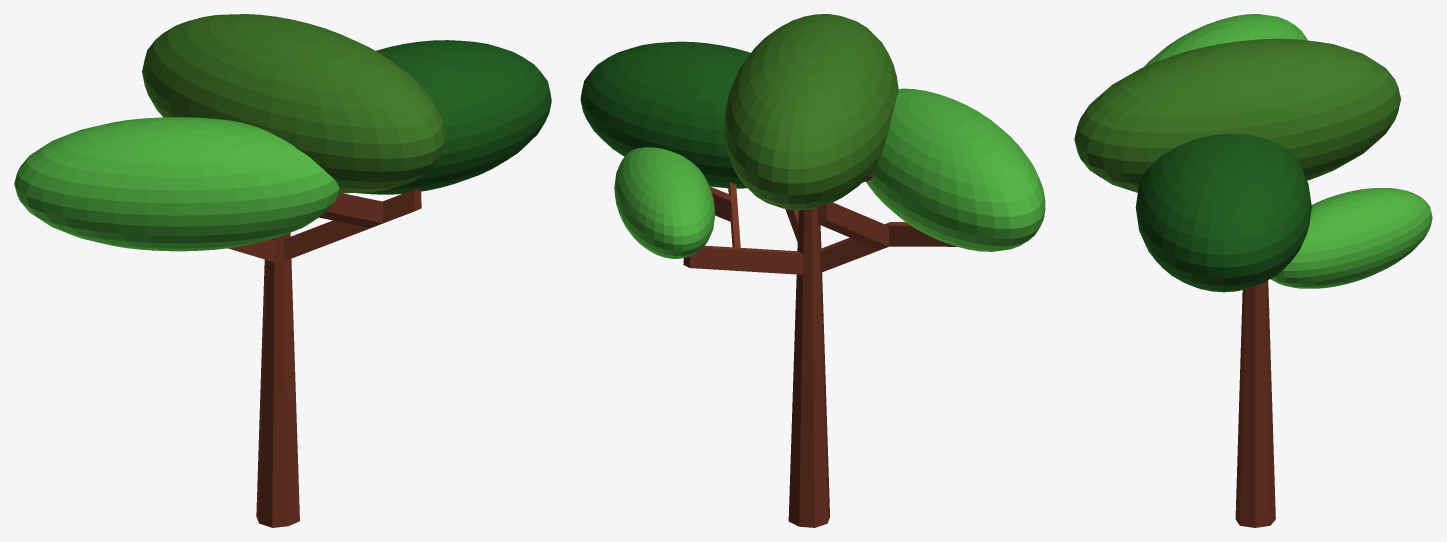
Rendered from tree_3.fbx.
3 views of the same model, side by side, from view 1: azimuth 30°, elevation 25°; view 2: azimuth 150°, elevation 25°; view 3: azimuth 270°, elevation 25° (orthographic). The views are drawn at different scales.
Visible parts, largest first — view 1: Sphere.001, Sphere, Cube; view 2: Cube, Sphere.001, Sphere, Sphere.002; view 3: Sphere.001, Cube, Sphere.002, Sphere.
Boxes of the visible parts, <box> form: Sphere.001: <box>142,14,445,193</box>; Sphere: <box>14,117,339,251</box>; Cube: <box>152,40,551,527</box>; Cube: <box>580,41,956,527</box>; Sphere.001: <box>724,14,898,210</box>; Sphere: <box>866,88,1045,251</box>; Sphere.002: <box>614,147,715,258</box>; Sphere.001: <box>1074,38,1400,192</box>; Cube: <box>1135,133,1311,527</box>; Sphere.002: <box>1271,188,1432,288</box>; Sphere: <box>1144,14,1307,66</box>.
Bounding box in the file's own units: 15452 × 14534 × 10019.
